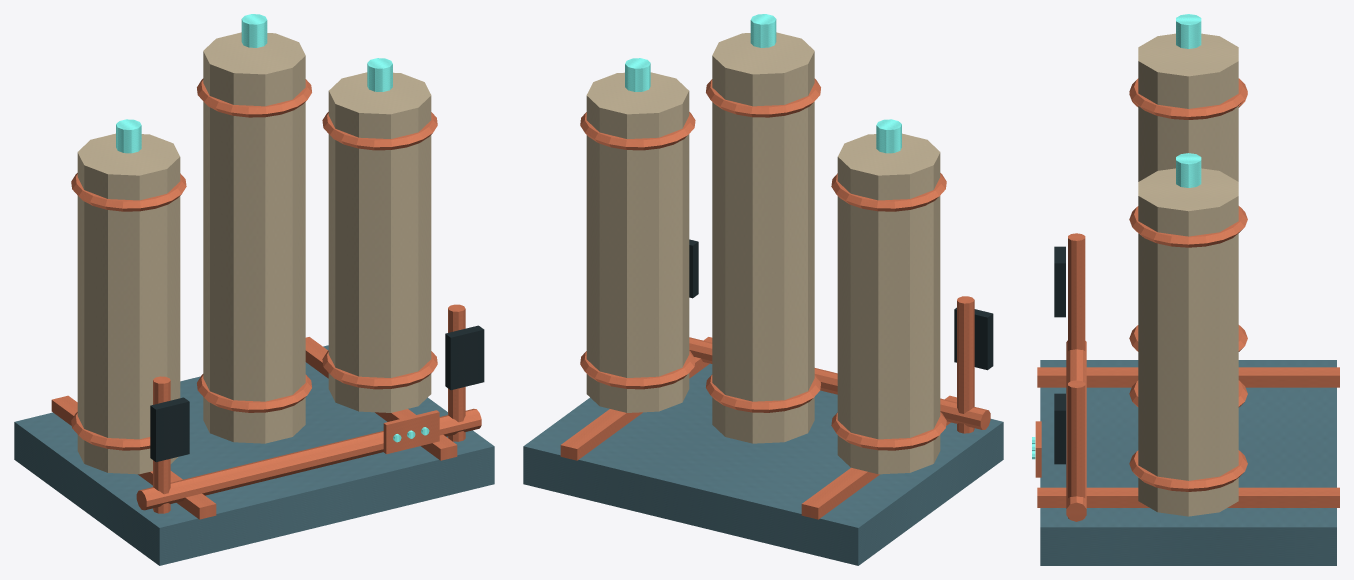
The model's file is atlas100-s050-a02.glb.
3 renders of one model, left to right at view 1: azimuth 30°, elevation 25°; view 2: azimuth 150°, elevation 25°; view 3: azimuth 270°, elevation 25°, orthographic. The views are drawn at different scales.
Parts seen in each view (by area): view 1: atlas100-s050-a02:part-007, atlas100-s050-a02:part-000, atlas100-s050-a02:part-011, atlas100-s050-a02:part-003, atlas100-s050-a02:part-019, atlas100-s050-a02:part-016, atlas100-s050-a02:part-018, atlas100-s050-a02:part-020, atlas100-s050-a02:part-008, atlas100-s050-a02:part-013, atlas100-s050-a02:part-012, atlas100-s050-a02:part-009 (+9 smaller); view 2: atlas100-s050-a02:part-000, atlas100-s050-a02:part-007, atlas100-s050-a02:part-003, atlas100-s050-a02:part-011, atlas100-s050-a02:part-015, atlas100-s050-a02:part-002, atlas100-s050-a02:part-019, atlas100-s050-a02:part-001, atlas100-s050-a02:part-008, atlas100-s050-a02:part-013, atlas100-s050-a02:part-004, atlas100-s050-a02:part-012 (+6 smaller); view 3: atlas100-s050-a02:part-000, atlas100-s050-a02:part-011, atlas100-s050-a02:part-007, atlas100-s050-a02:part-002, atlas100-s050-a02:part-001, atlas100-s050-a02:part-017, atlas100-s050-a02:part-015, atlas100-s050-a02:part-019, atlas100-s050-a02:part-012, atlas100-s050-a02:part-013, atlas100-s050-a02:part-009, atlas100-s050-a02:part-016 (+4 smaller).
Boxes of the visible parts, x1,y1,x2,y2 form: atlas100-s050-a02:part-007: [203, 32, 305, 443]; atlas100-s050-a02:part-000: [14, 345, 494, 565]; atlas100-s050-a02:part-011: [328, 72, 431, 412]; atlas100-s050-a02:part-003: [77, 133, 180, 474]; atlas100-s050-a02:part-019: [136, 408, 481, 510]; atlas100-s050-a02:part-016: [150, 397, 189, 462]; atlas100-s050-a02:part-018: [445, 325, 484, 390]; atlas100-s050-a02:part-020: [383, 410, 439, 454]; atlas100-s050-a02:part-008: [197, 374, 311, 412]; atlas100-s050-a02:part-013: [322, 112, 437, 150]; atlas100-s050-a02:part-012: [322, 350, 437, 389]; atlas100-s050-a02:part-009: [197, 78, 311, 117]; atlas100-s050-a02:part-000: [523, 363, 1003, 565]; atlas100-s050-a02:part-007: [712, 32, 814, 443]; atlas100-s050-a02:part-003: [837, 133, 940, 474]; atlas100-s050-a02:part-011: [586, 72, 689, 412]; atlas100-s050-a02:part-015: [957, 296, 974, 433]; atlas100-s050-a02:part-002: [560, 337, 712, 460]; atlas100-s050-a02:part-019: [689, 337, 990, 429]; atlas100-s050-a02:part-001: [801, 395, 956, 519]; atlas100-s050-a02:part-008: [706, 374, 820, 412]; atlas100-s050-a02:part-013: [580, 112, 695, 150]; atlas100-s050-a02:part-004: [831, 412, 946, 450]; atlas100-s050-a02:part-012: [580, 350, 695, 389]; atlas100-s050-a02:part-000: [1040, 360, 1336, 565]; atlas100-s050-a02:part-011: [1138, 168, 1238, 516]; atlas100-s050-a02:part-007: [1138, 33, 1238, 181]; atlas100-s050-a02:part-002: [1037, 487, 1339, 507]; atlas100-s050-a02:part-001: [1037, 367, 1339, 387]; atlas100-s050-a02:part-017: [1068, 380, 1085, 518]; atlas100-s050-a02:part-015: [1068, 233, 1085, 350]; atlas100-s050-a02:part-019: [1066, 340, 1086, 521]; atlas100-s050-a02:part-012: [1129, 450, 1247, 491]; atlas100-s050-a02:part-013: [1129, 206, 1247, 247]; atlas100-s050-a02:part-009: [1129, 78, 1247, 119]; atlas100-s050-a02:part-016: [1054, 246, 1065, 317].
Size of the model in its own units: 2.52 by 3.1 by 1.87.
5 materials, 5 textured.
